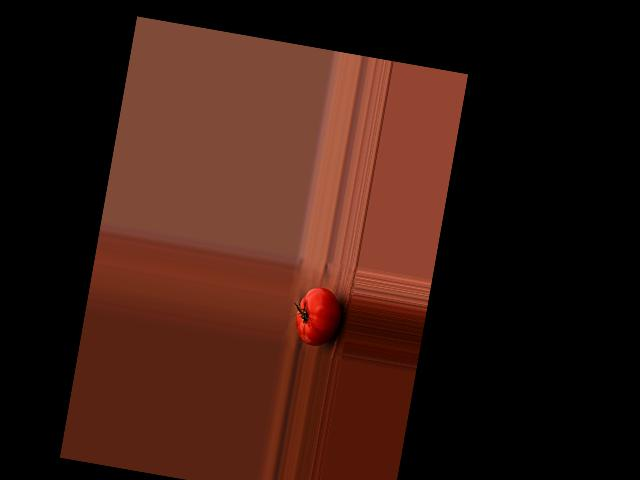tomato: (292, 283, 346, 349)
